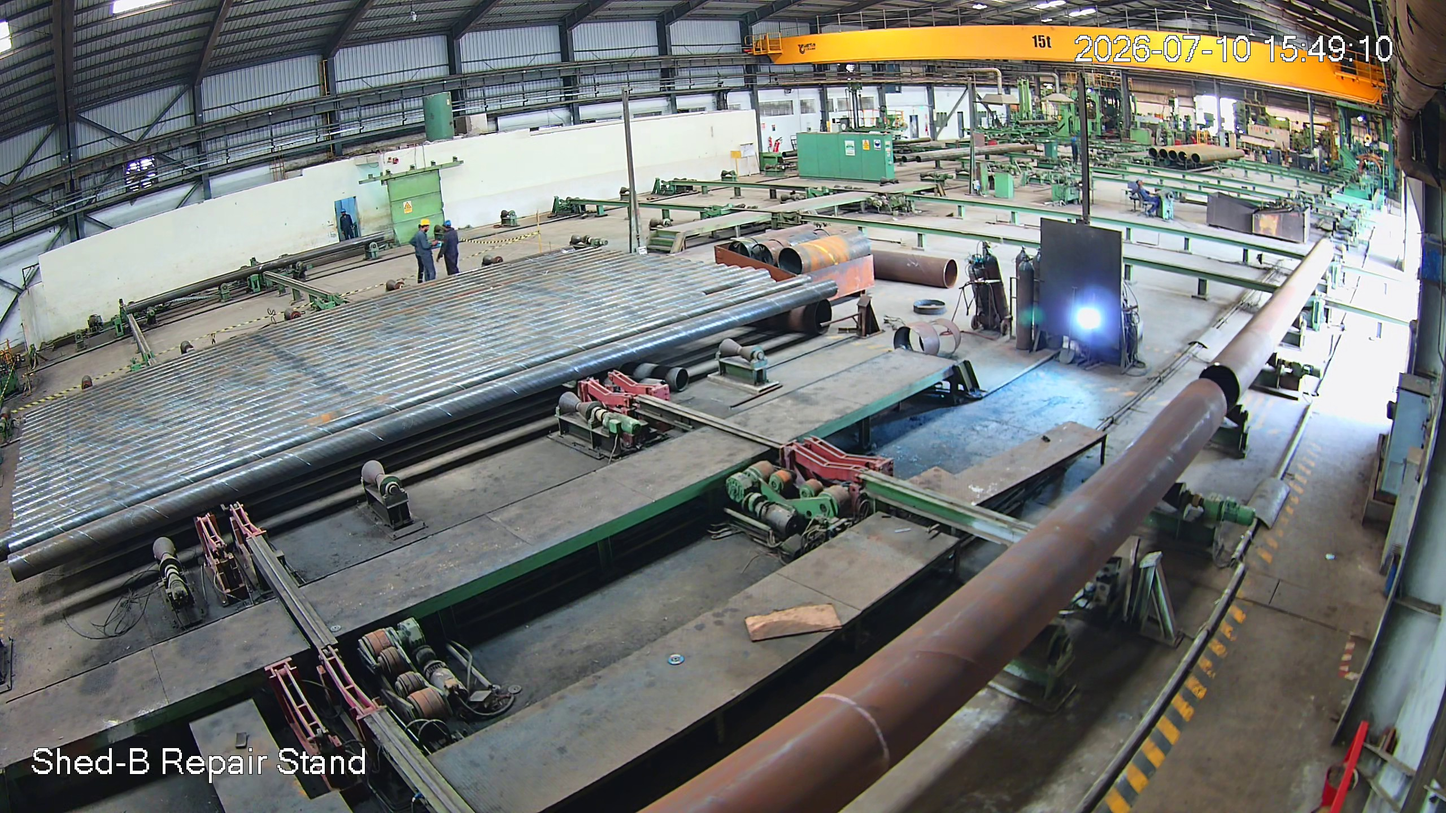Helmet: (418, 216, 436, 239), (442, 215, 459, 237)
Person: (437, 218, 468, 282), (416, 220, 438, 282)
